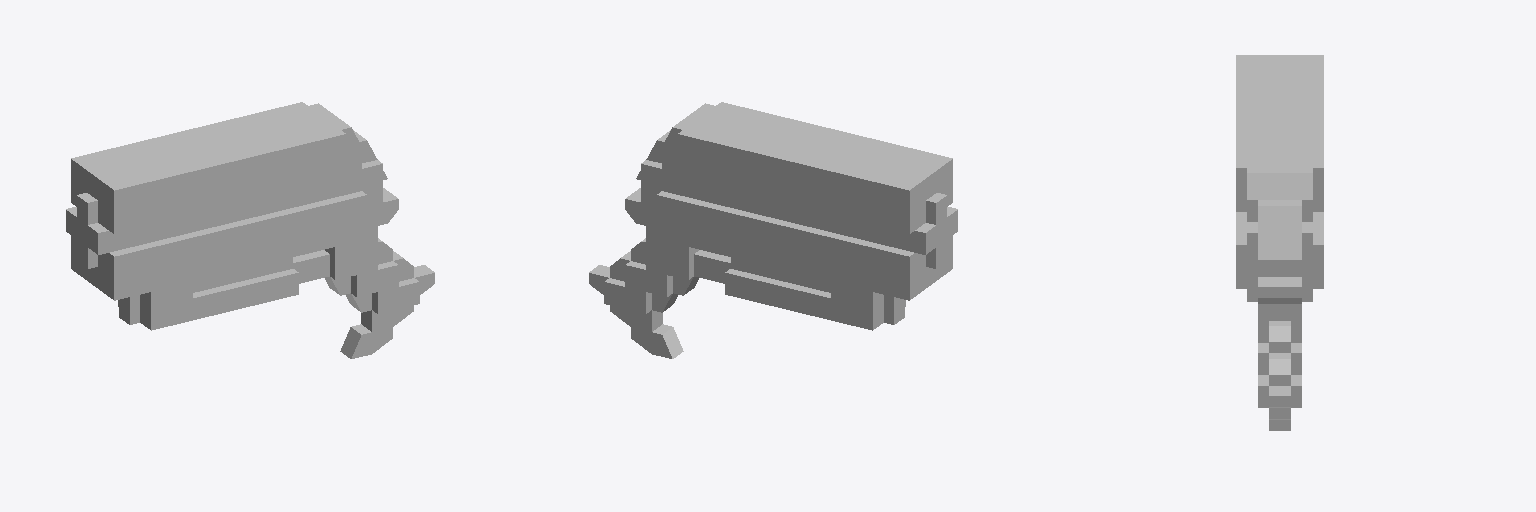
The model's file is bless.obj.
The picture shows the model from 3 angles: view 1: azimuth 30°, elevation 25°; view 2: azimuth 150°, elevation 25°; view 3: azimuth 270°, elevation 25°; orthographic projection.
Size of the model in its own units: 16.5 by 11 by 3.6.